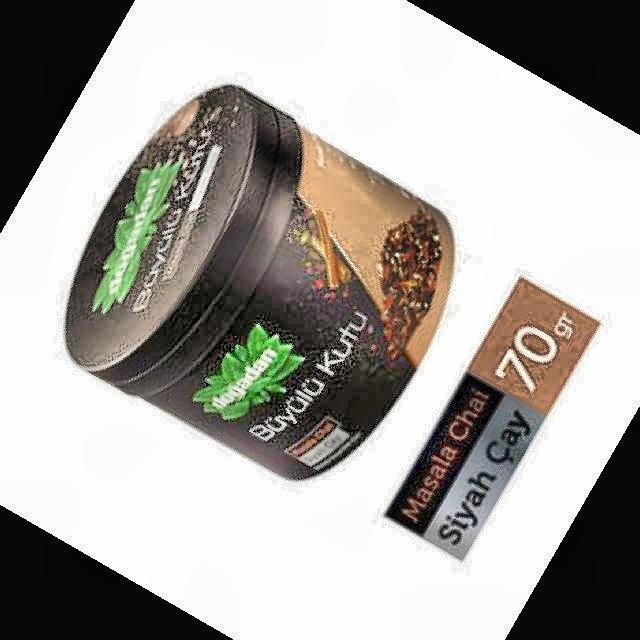plastic: (65, 85, 454, 479)
